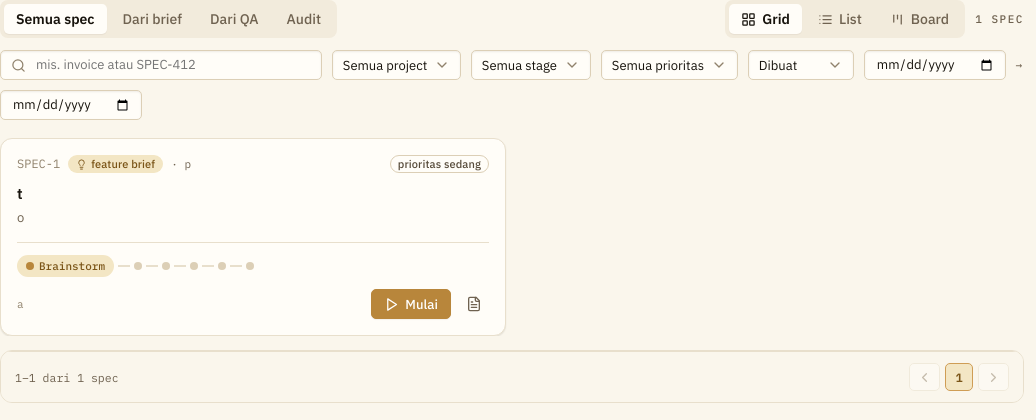
Test: filter rentang tanggal backlog (SPEC-408) › Reset filter mengosongkan tanggal DAN mengembalikan sumbu ke Dibuat
Step 1. Type "2026-07-01" into the date field named "Tanggal dari" → [935, 65], box [875, 56, 995, 74]
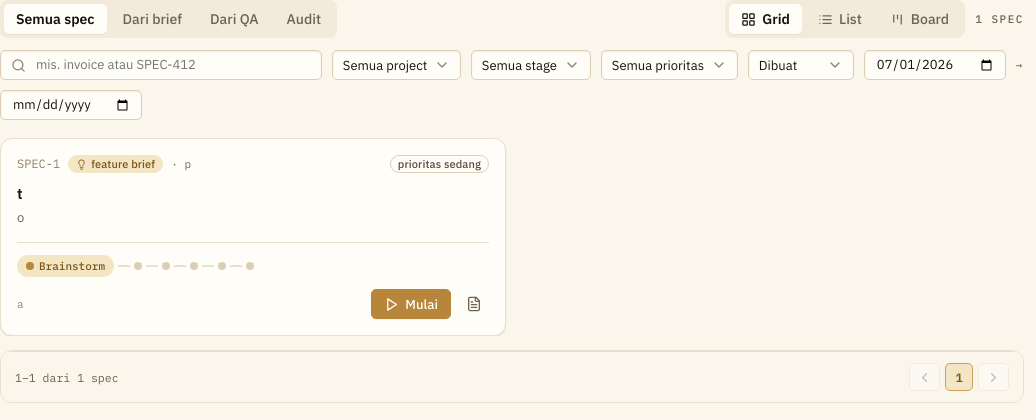
Step 2. Select "Dikerjakan" in the dropdown named "Filter tanggal berdasarkan" → [801, 65], box [749, 51, 853, 79]
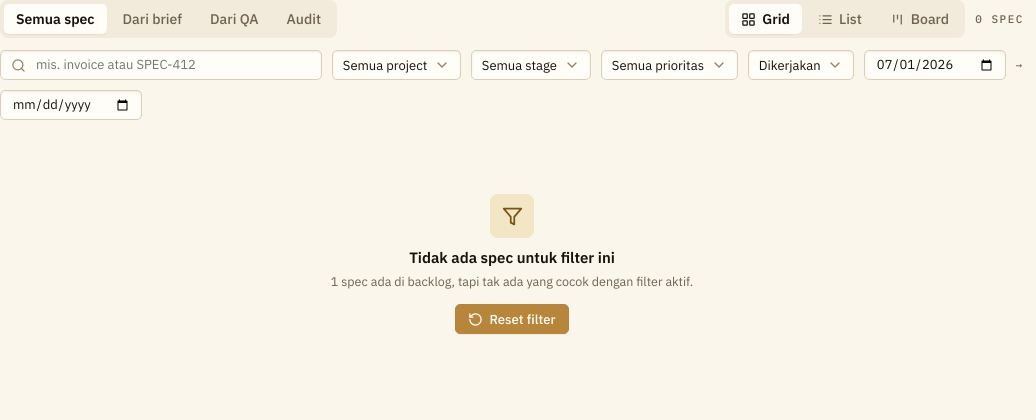
Step 3. Click the text "Reset filter" → [522, 319], box [489, 313, 556, 326]
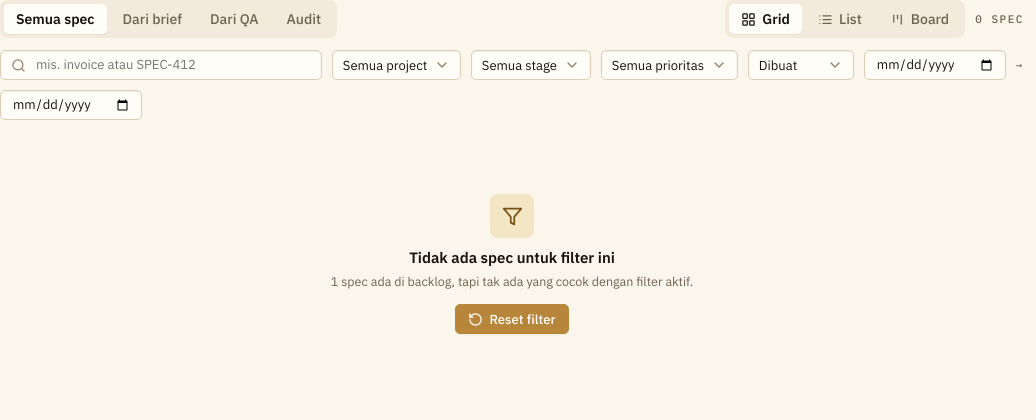
Result: the date field named "Tanggal dari" is empty at [875, 56, 995, 74]
